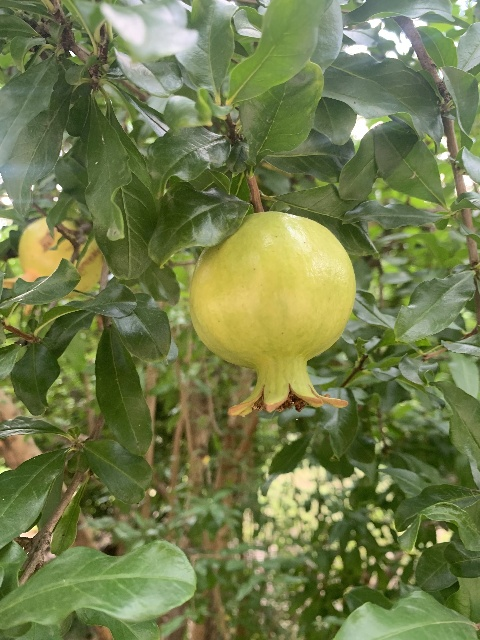mid-growth: (188, 211, 356, 417), (2, 216, 102, 316)
